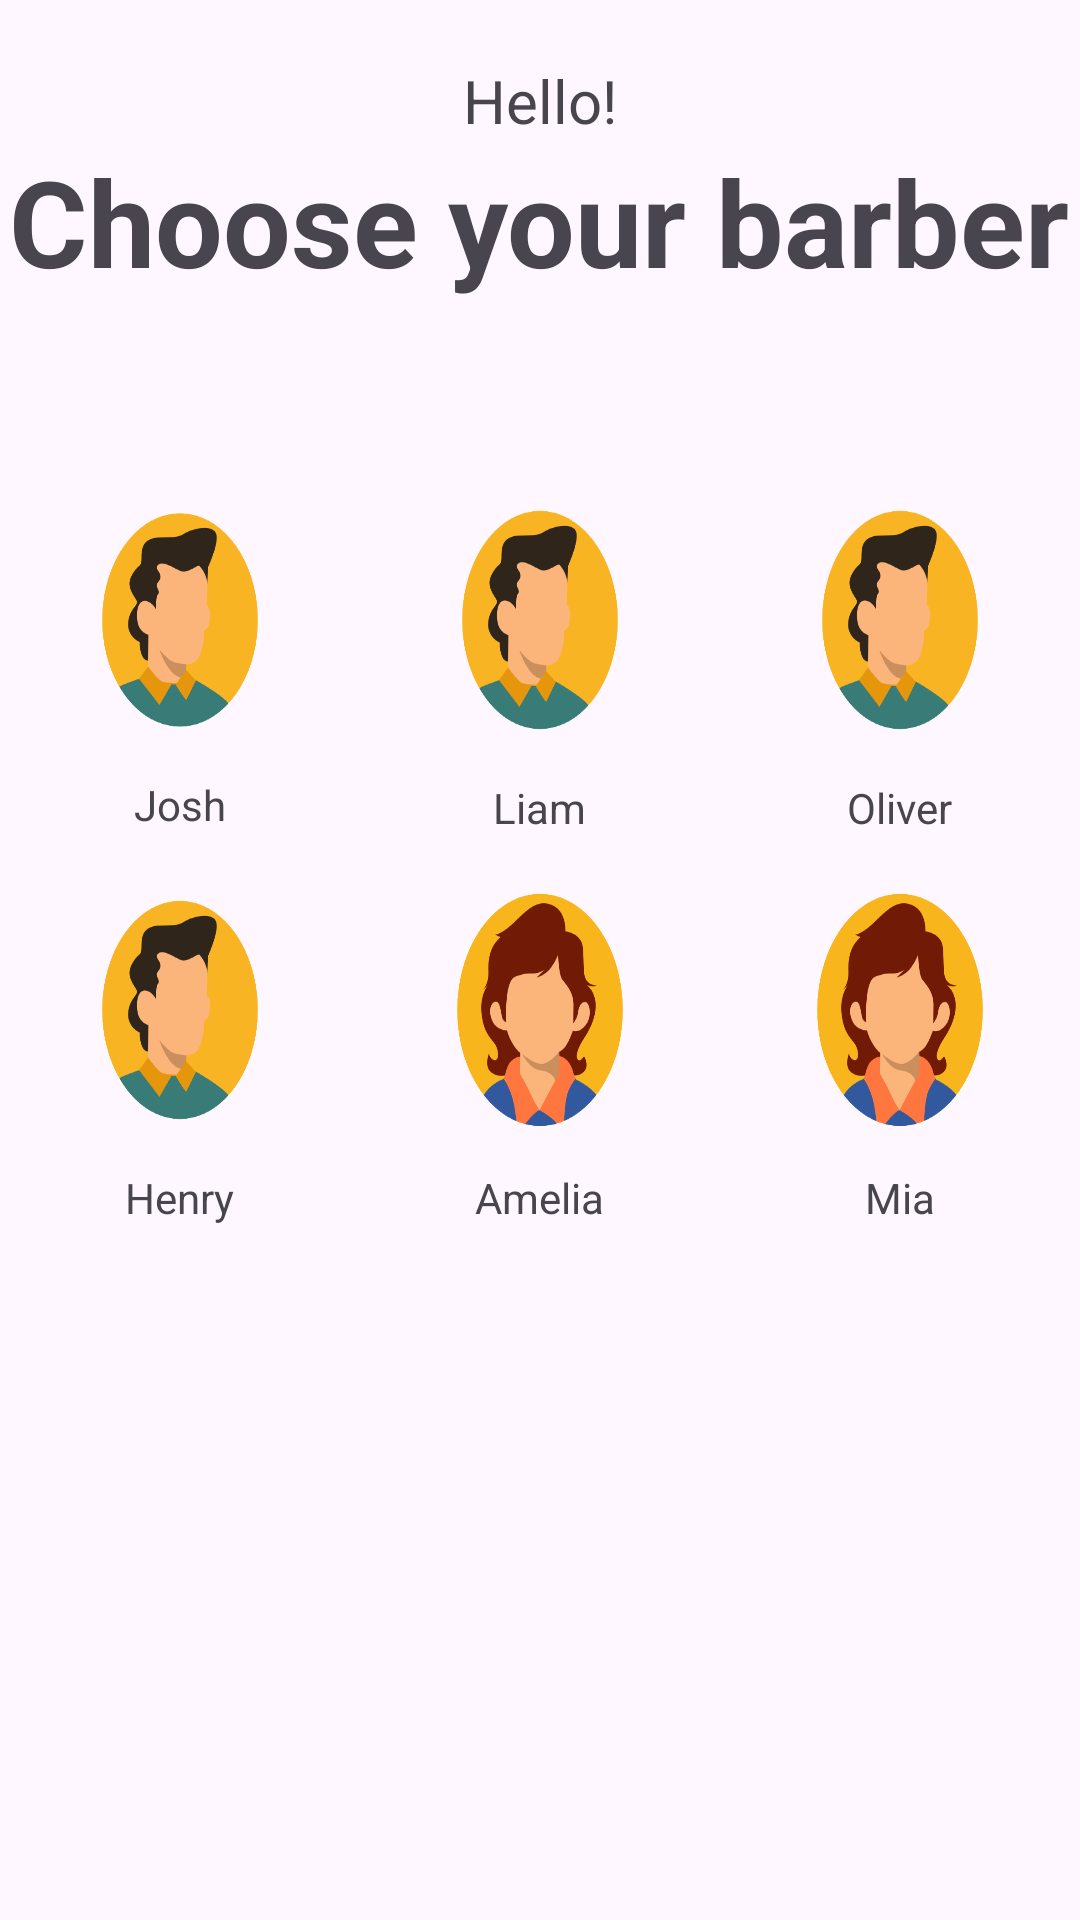

Where to tap for icons on this 1080px×1920px app screen, as point (x, y):
boy barber: point (540, 619), point (900, 619), point (180, 620), point (180, 1009)
girl barber: point (540, 1010), point (900, 1010)
